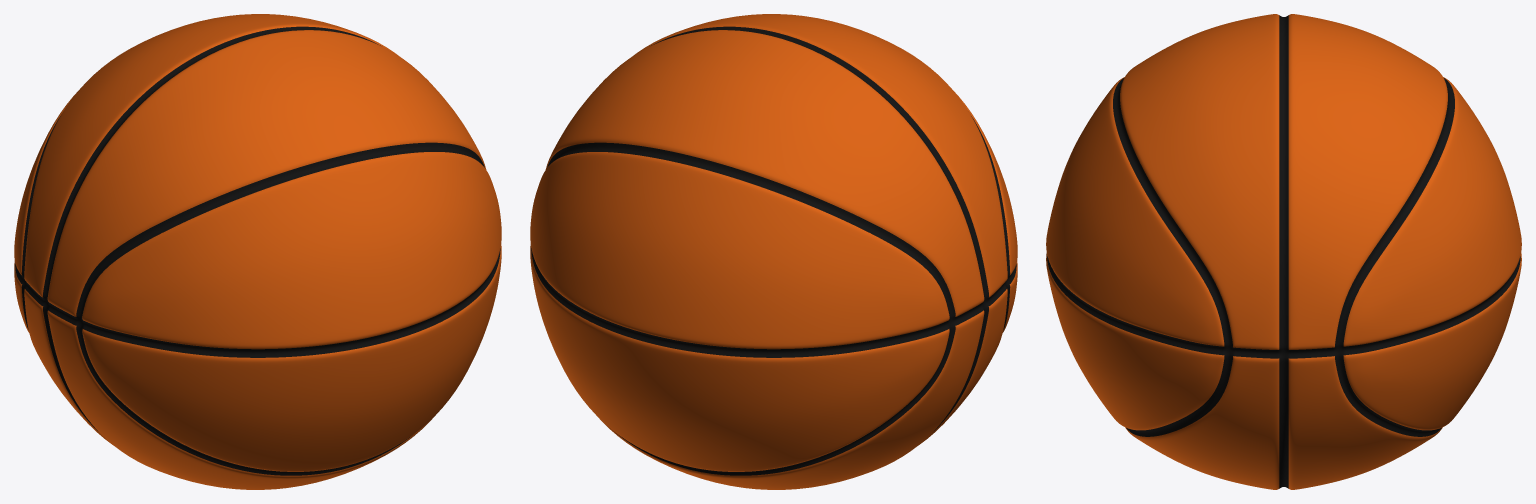
File: Basketball.fbx
The picture shows the model from 3 angles, left to right: view 1: azimuth 30°, elevation 25°; view 2: azimuth 150°, elevation 25°; view 3: azimuth 270°, elevation 25°; orthographic projection.
Visible parts, largest first — view 1: Basketball; view 2: Basketball; view 3: Basketball.
Boxes of the visible parts, x1,y1,x2,y2 form: Basketball: (14,14,501,489); Basketball: (530,14,1017,489); Basketball: (1046,14,1521,489).
Size of the model in its own units: 265 by 260 by 260.
